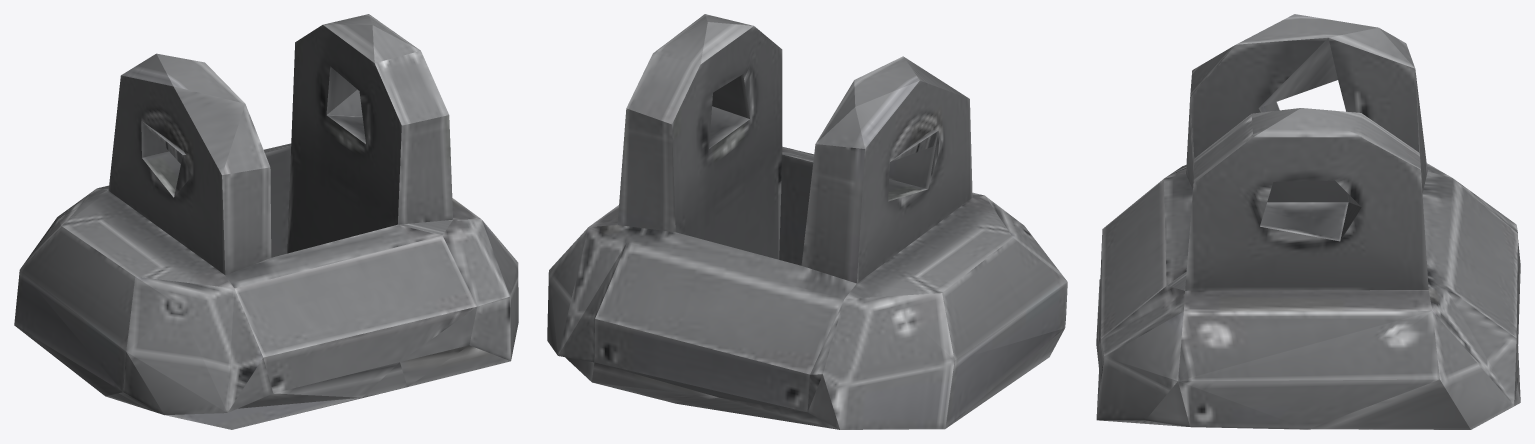
Rendered from shared_flak_tower_large_option__radar_azimuth_yoke_lod2.glb.
3 views of the same model, side by side, from view 1: azimuth 30°, elevation 25°; view 2: azimuth 150°, elevation 25°; view 3: azimuth 270°, elevation 25° (orthographic). The views are drawn at different scales.
Visible parts, largest first — view 1: mesh_node; view 2: mesh_node; view 3: mesh_node.
Boxes of the visible parts, box(x1,y1,x2,y2) form: mesh_node: box(14, 14, 518, 429); mesh_node: box(547, 14, 1067, 429); mesh_node: box(1096, 14, 1520, 429).
Bounding box in the file's own units: 0.9609 × 0.6537 × 0.8584.
Materials: 1 (1 with a texture image).
